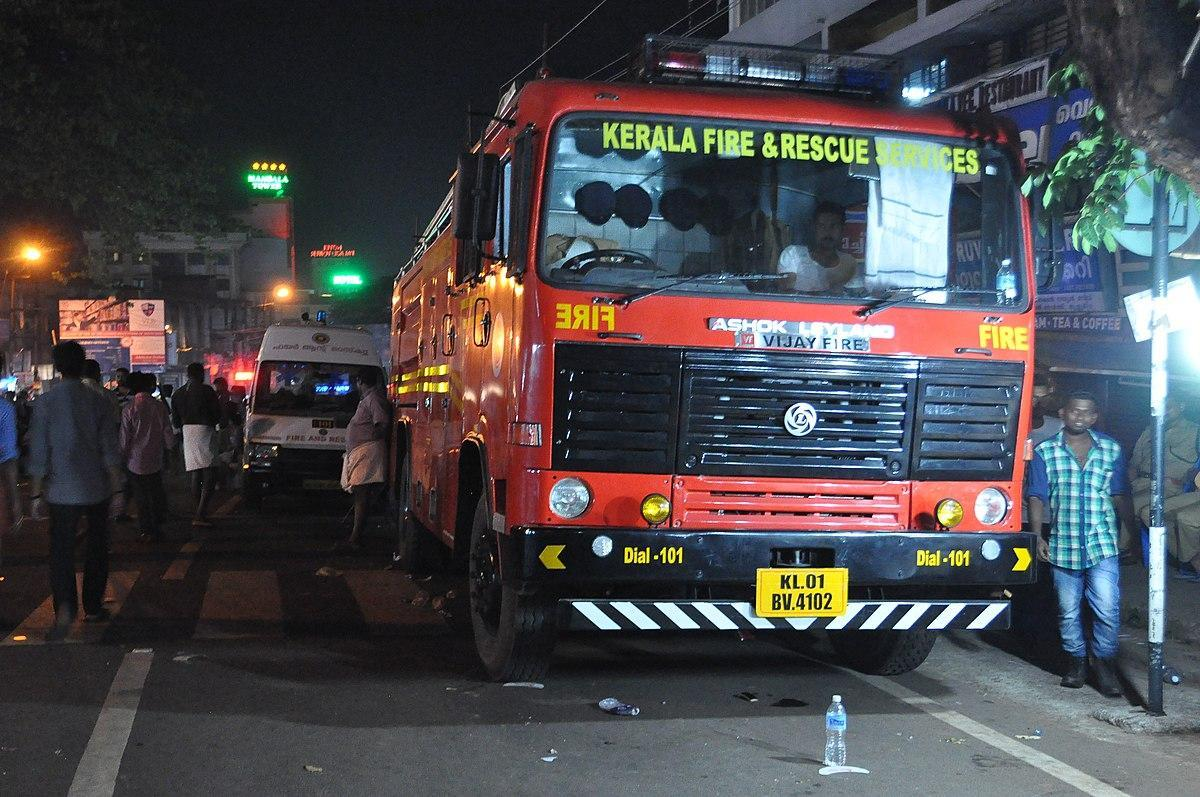Fire-engine: (389, 39, 1049, 685), (574, 116, 979, 174), (547, 291, 628, 339), (617, 536, 690, 576), (975, 312, 1032, 362)
